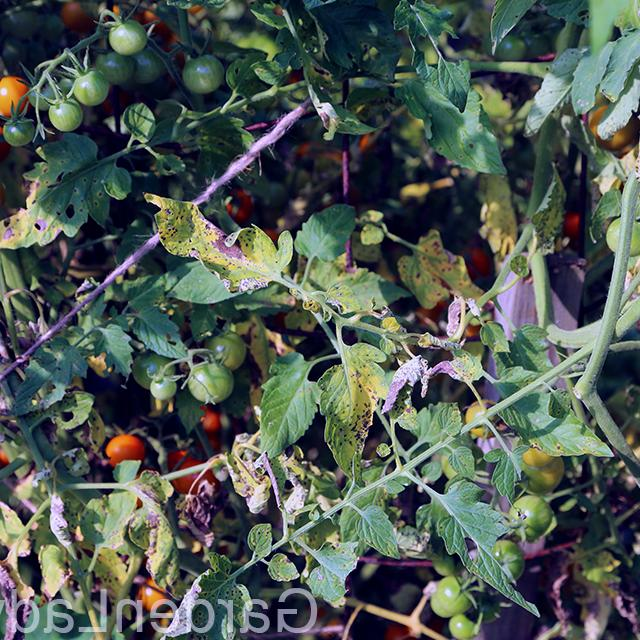Tomato leaf: (140, 192, 297, 296), (0, 138, 130, 249), (403, 77, 502, 176), (317, 344, 386, 474), (486, 400, 608, 459), (254, 355, 323, 459), (399, 236, 477, 305), (320, 268, 408, 311)
